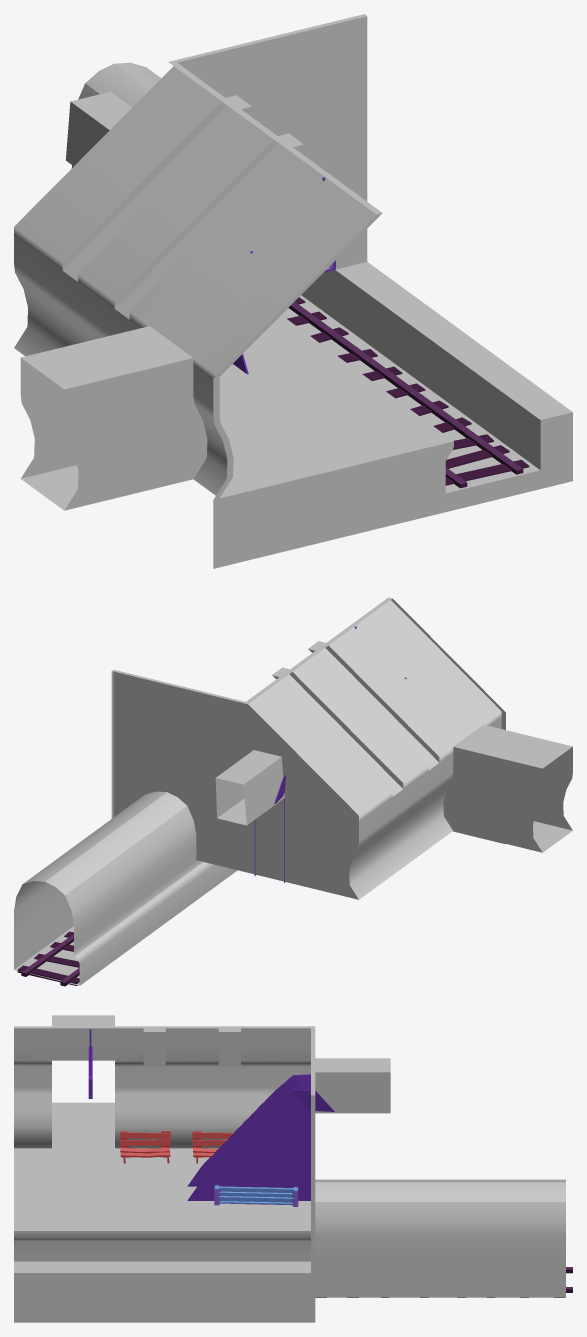
File: station 7.fbx
3 views of the same model, one above another, from view 1: azimuth 30°, elevation 25°; view 2: azimuth 150°, elevation 25°; view 3: azimuth 270°, elevation 25° (orthographic). The views are drawn at different scales.
Parts seen in each view (by area): view 1: env_3, track_3; view 2: env_3, track_3; view 3: env_3, stairs, pCube74, polySurface13, polySurface14.
Boxes of the visible parts, x1=… form: env_3: x1=14, y1=14, x2=572, y2=568; track_3: x1=287, y1=297, x2=529, y2=488; env_3: x1=14, y1=597, x2=572, y2=985; track_3: x1=17, y1=931, x2=79, y2=986; env_3: x1=14, y1=1015, x2=565, y2=1322; stairs: x1=187, y1=1074, x2=334, y2=1200; pCube74: x1=214, y1=1185, x2=298, y2=1206; polySurface13: x1=119, y1=1131, x2=170, y2=1163; polySurface14: x1=192, y1=1131, x2=235, y2=1163.
Size of the model in its own units: 26.84 by 16.74 by 37.27.
